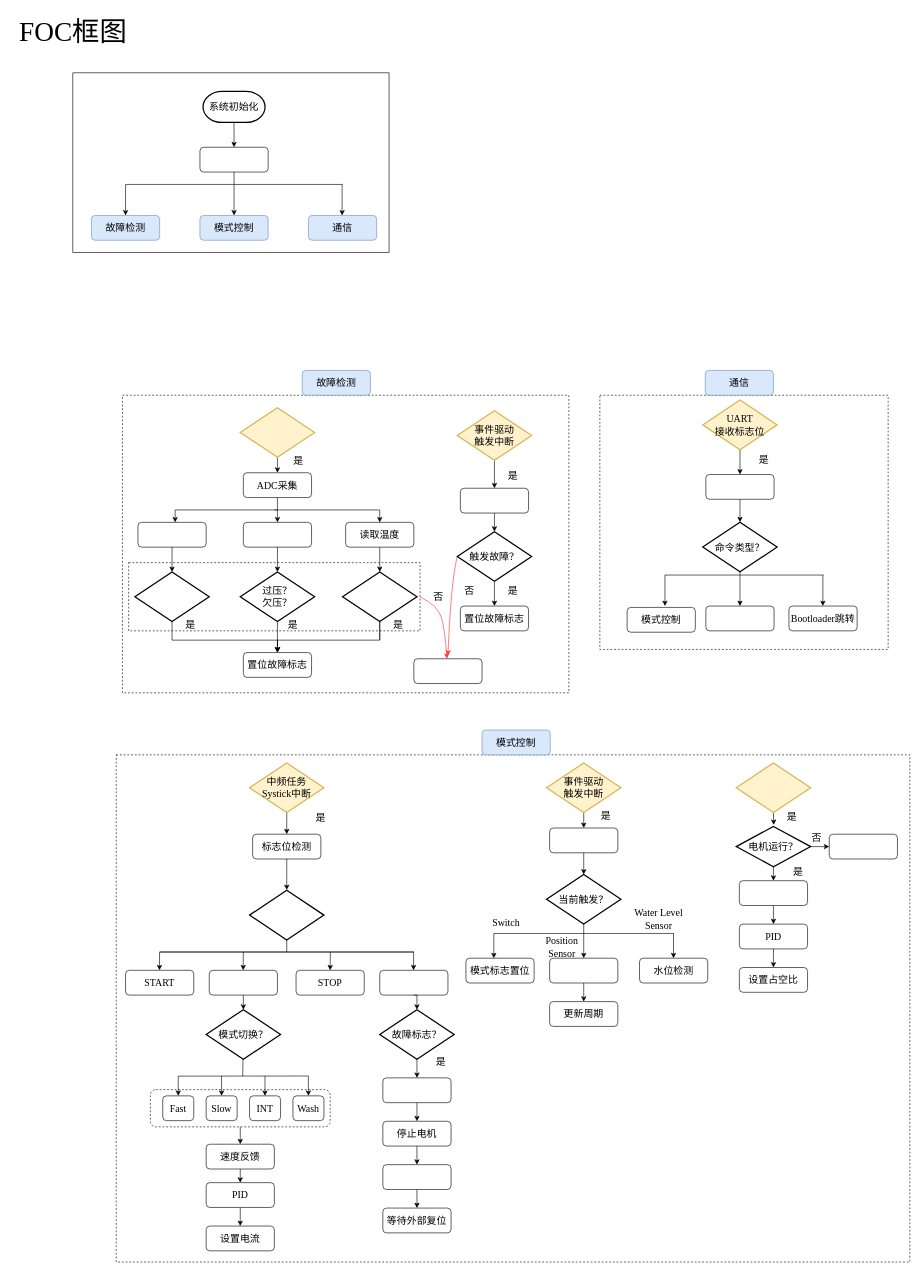
This 921x1273 diagram has some shape labels left out. The box of each missing label's shape, as (x1, y1, x2, y2) in pixels:
FAULT: (379, 970, 448, 995)
Fault Handing: (382, 1077, 451, 1103)
RUN: (209, 970, 277, 995)
While(1): (199, 147, 268, 172)
低频任务 Systick中断: (239, 407, 315, 458)
反馈故障信息: (382, 1164, 451, 1189)
标志位置位？: (249, 889, 324, 940)
检测比较信号: (460, 488, 529, 513)
检测触发信号: (549, 827, 618, 853)
温度过高？: (342, 571, 417, 622)
状态反馈: (705, 605, 774, 631)
电流检测: (739, 880, 808, 906)
继续正常循行: (413, 658, 482, 684)
解析数据: (705, 474, 774, 499)
读取电机电流: (137, 522, 206, 547)
读取电源电压: (243, 522, 312, 547)
过流？: (134, 571, 210, 622)
退出: (829, 834, 897, 859)
雨刷周期校准: (549, 958, 618, 983)
高频任务 Systick中断: (735, 762, 811, 813)
